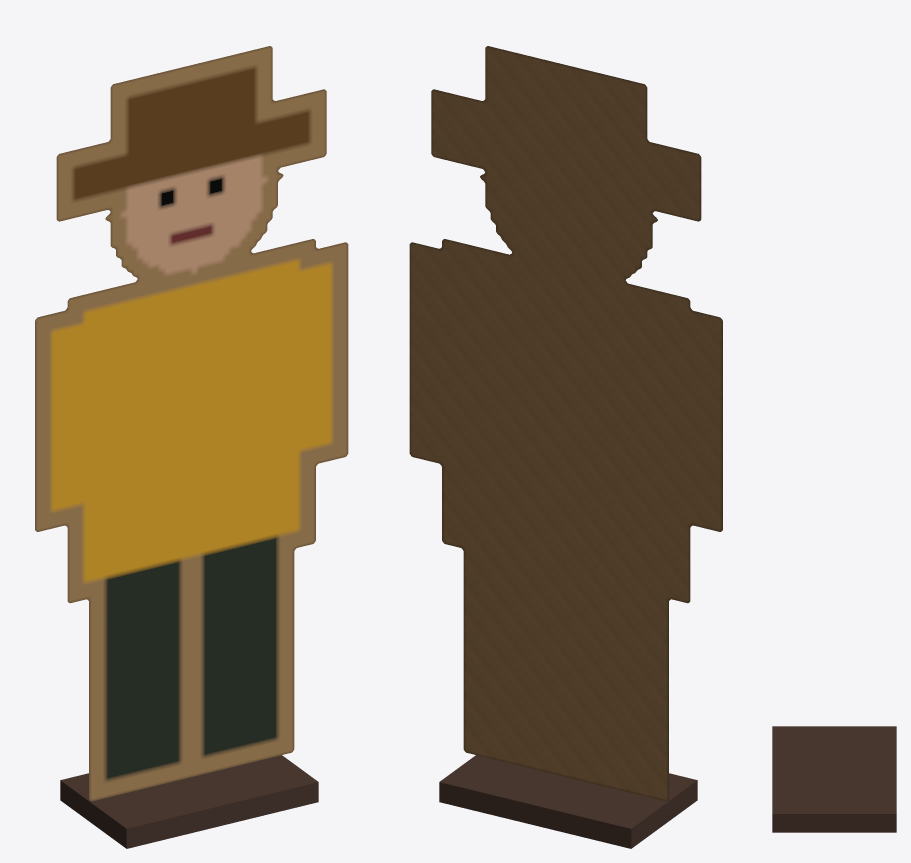
Rendered from recorte_pescador.glb.
The picture shows the model from 3 angles, left to right: view 1: azimuth 30°, elevation 25°; view 2: azimuth 150°, elevation 25°; view 3: azimuth 270°, elevation 25°; orthographic projection. The views are drawn at different scales.
Visible parts, largest first — view 1: _MeshInstance3D_664_2, _MeshInstance3D_666_0; view 2: _MeshInstance3D_665_1, _MeshInstance3D_666_0; view 3: _MeshInstance3D_666_0.
Boxes of the visible parts, <box> form: _MeshInstance3D_664_2: <box>35,46,348,801</box>; _MeshInstance3D_666_0: <box>60,755,318,848</box>; _MeshInstance3D_665_1: <box>409,46,722,801</box>; _MeshInstance3D_666_0: <box>439,755,697,848</box>; _MeshInstance3D_666_0: <box>772,726,896,832</box>.
Bounding box in the file's own units: 0.9 × 1.85 × 0.3.
Materials: 3 (2 with a texture image).
